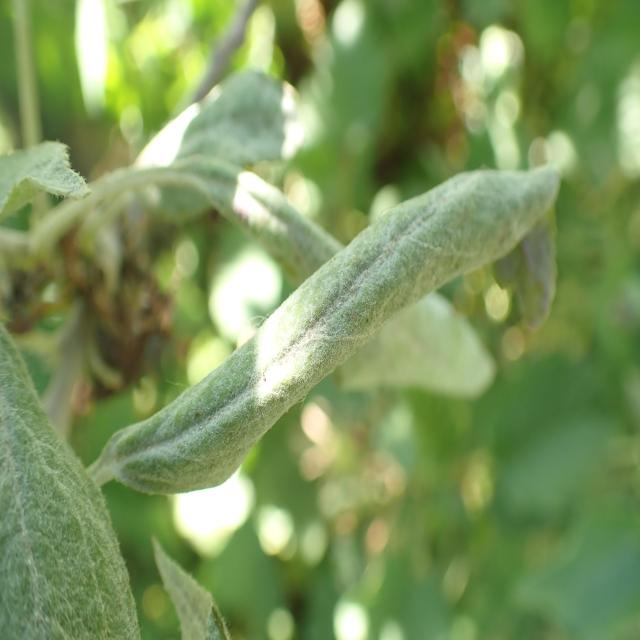Powdery_mildew: (94, 153, 560, 488), (0, 307, 150, 640), (132, 135, 337, 282), (151, 530, 238, 640)
